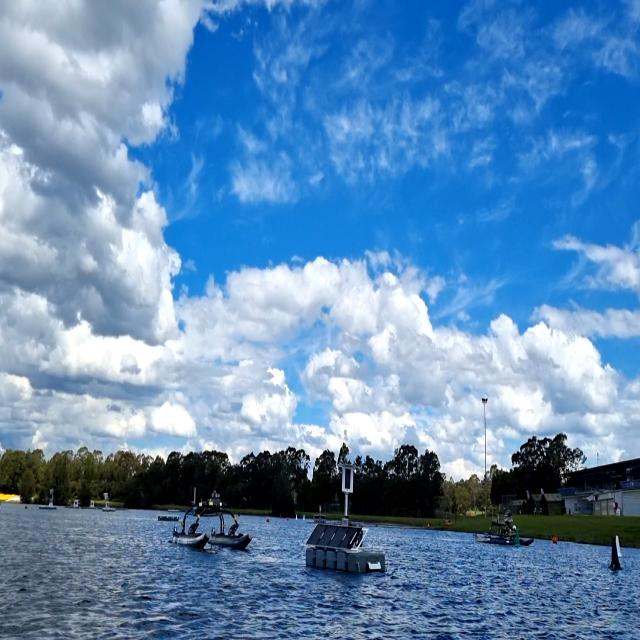led: (344, 467, 352, 491)
